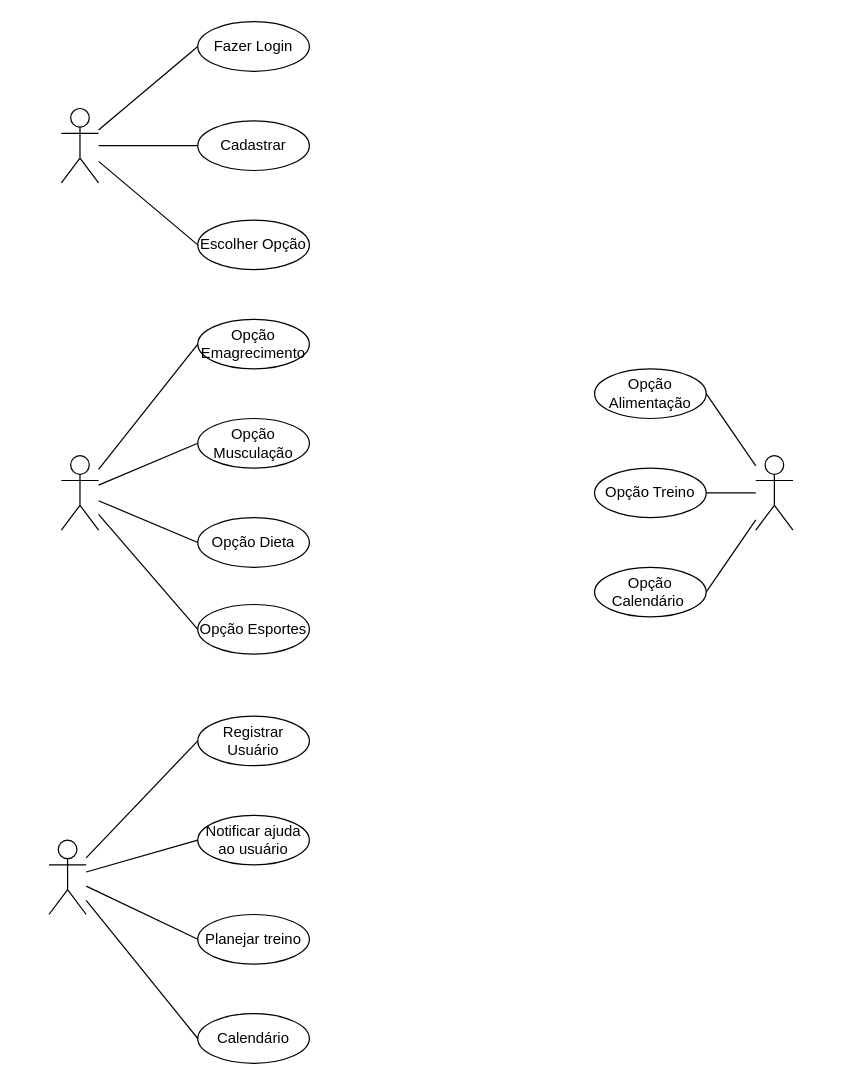
The diagram is 854 pixels wide and 1085 high, and some of its shapes have lost their labels. Here are the shapes that lost their labels. From the top down, the box of each, then its label:
(60, 107, 99, 183): Usuário
(60, 454, 99, 530): Usuário(Opção 1)
(755, 454, 793, 530): Usuário(Opção 2)
(48, 839, 86, 914): Sistema
